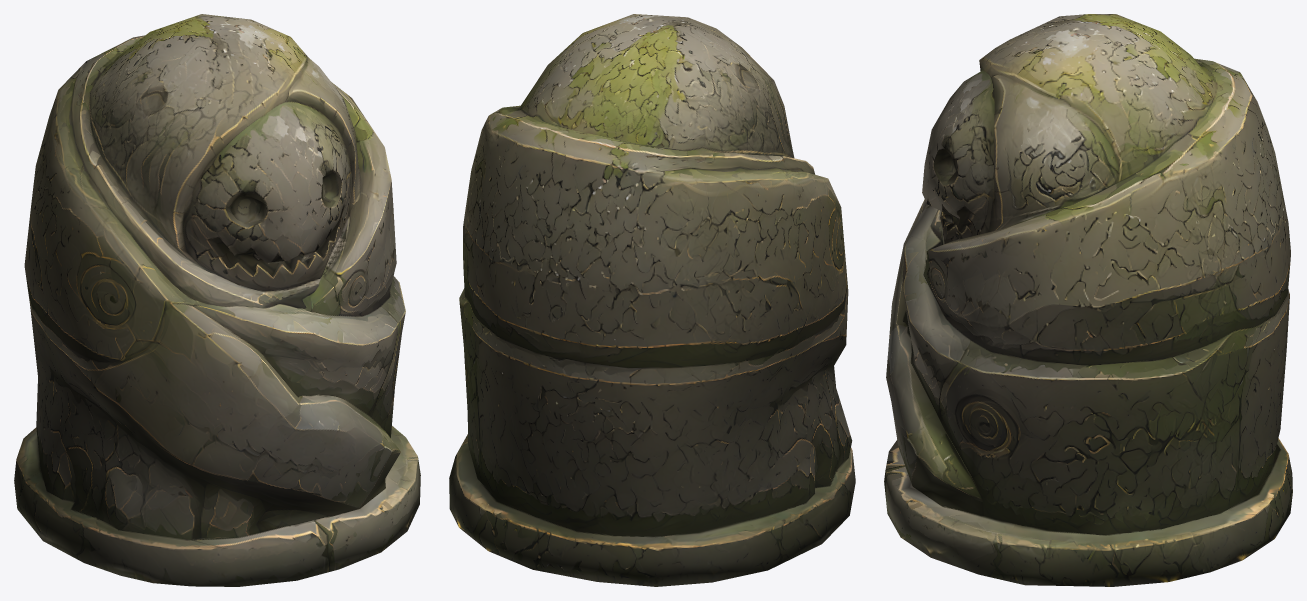
The model's file is Mossy Stone Idol.fbx.
The picture shows the model from 3 angles, left to right: view 1: azimuth 30°, elevation 25°; view 2: azimuth 150°, elevation 25°; view 3: azimuth 270°, elevation 25°; orthographic projection.
Visible parts, largest first — view 1: input; view 2: input; view 3: input.
Part boxes in pixels (x1,y1,x2,y2): input: [14, 14, 420, 586]; input: [449, 14, 855, 586]; input: [884, 14, 1292, 586].
Size of the model in its own units: 75.74 by 99.23 by 76.45.
1 material, 1 textured.
